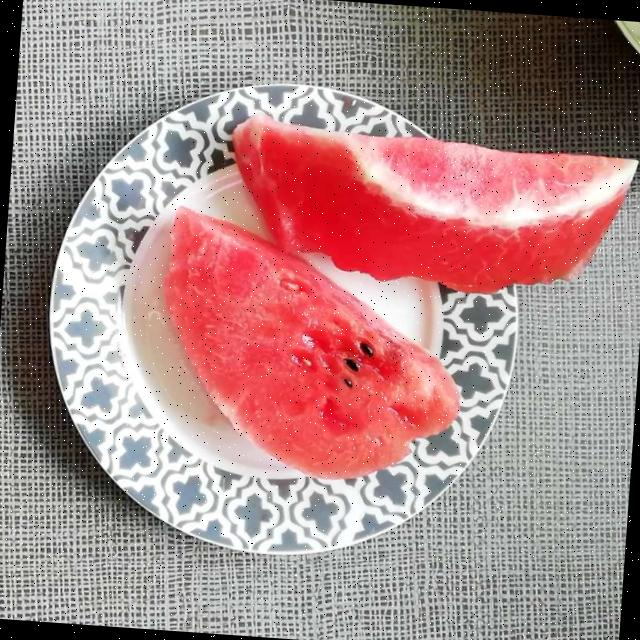watermelon-fresh: (177, 118, 624, 465)
